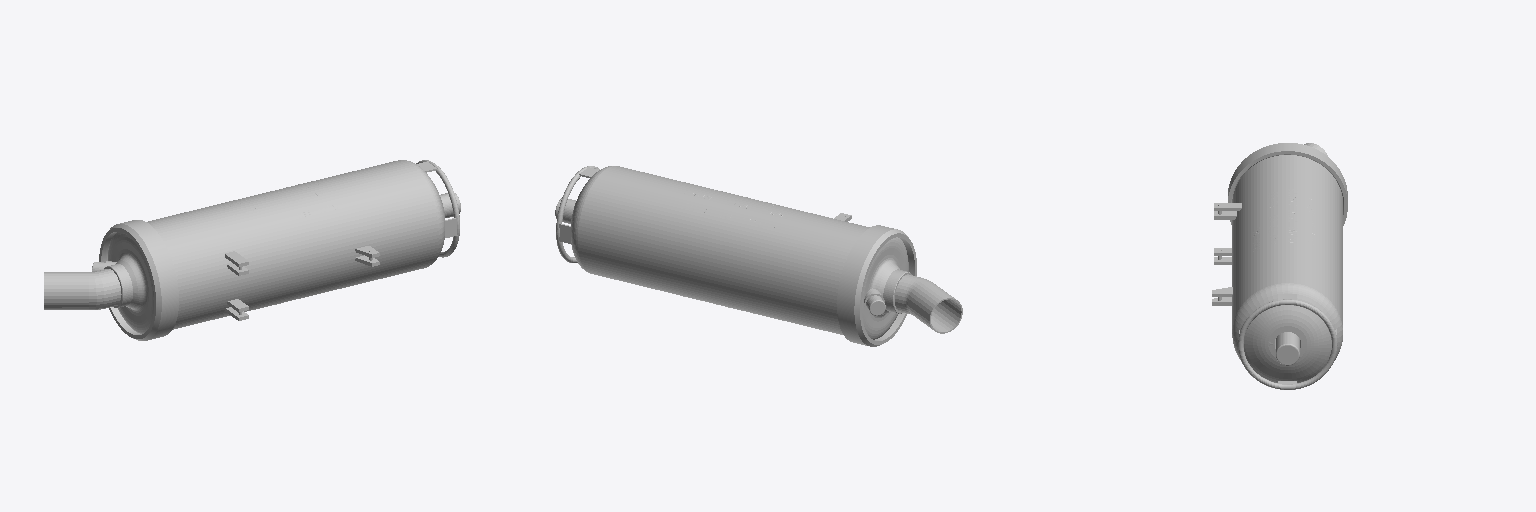
File: roket.obj
3 renders of one model, left to right at view 1: azimuth 30°, elevation 25°; view 2: azimuth 150°, elevation 25°; view 3: azimuth 270°, elevation 25°, orthographic.
Parts seen in each view (by area): view 1: chamber 01 (Meshed), chamber 02 (Meshed), nozzle external (Meshed), supports (Meshed), hand hold (Meshed)001, chamber 03 (Meshed); view 2: chamber 01 (Meshed), chamber 02 (Meshed), nozzle external (Meshed), hand hold (Meshed)001, nozzle internal (Meshed), chamber 03 (Meshed); view 3: chamber 01 (Meshed), hand hold (Meshed)001, chamber 02 (Meshed), supports (Meshed), igniter (Meshed).
Boxes of the visible parts, <box> form: chamber 01 (Meshed): <box>108,160,444,333</box>; chamber 02 (Meshed): <box>99,220,178,340</box>; nozzle external (Meshed): <box>44,269,121,309</box>; supports (Meshed): <box>225,246,379,320</box>; hand hold (Meshed)001: <box>416,160,459,257</box>; chamber 03 (Meshed): <box>104,264,132,307</box>; chamber 01 (Meshed): <box>571,166,908,339</box>; chamber 02 (Meshed): <box>837,225,916,346</box>; nozzle external (Meshed): <box>895,274,962,333</box>; hand hold (Meshed)001: <box>556,166,599,262</box>; nozzle internal (Meshed): <box>931,299,961,332</box>; chamber 03 (Meshed): <box>883,269,911,313</box>; chamber 01 (Meshed): <box>1232,155,1342,382</box>; hand hold (Meshed)001: <box>1238,294,1337,389</box>; chamber 02 (Meshed): <box>1228,143,1347,225</box>; supports (Meshed): <box>1212,203,1241,305</box>; igniter (Meshed): <box>1276,332,1299,365</box>.
Bounding box in the file's own units: 980 × 251 × 284.